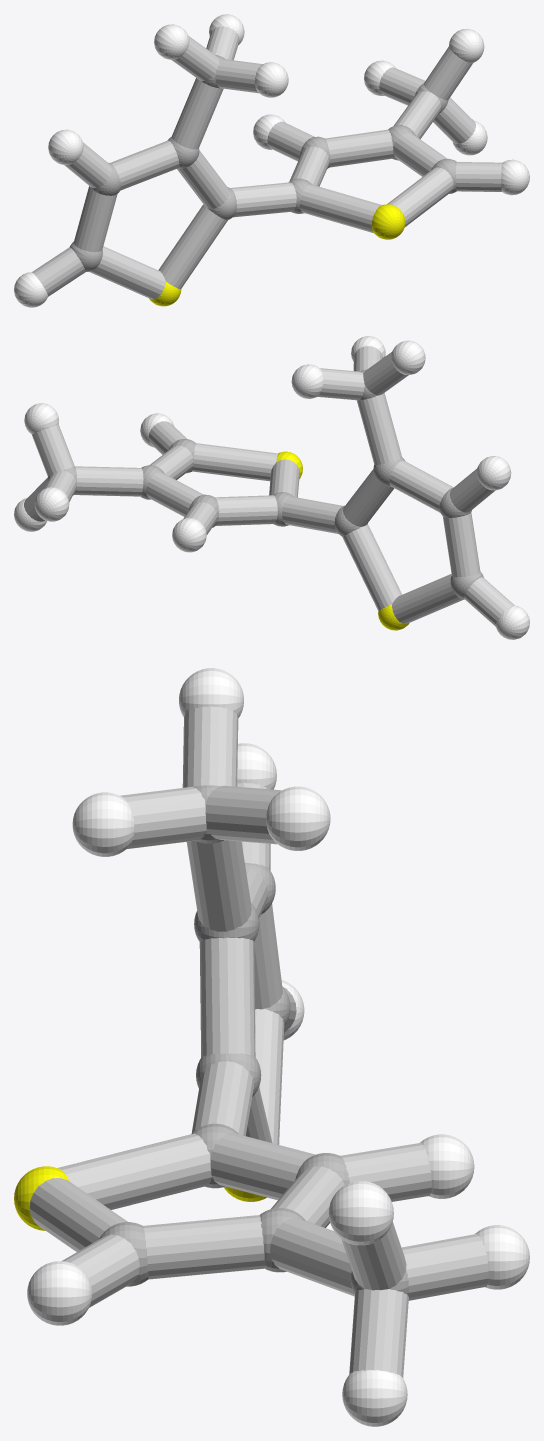
Rendered from color.glb.
3 renders of one model, top to bottom at view 1: azimuth 30°, elevation 25°; view 2: azimuth 150°, elevation 25°; view 3: azimuth 270°, elevation 25°, orthographic. The views are drawn at different scales.
Parts seen in each view (by area): view 1: grp7965, grp3621, grp1, grp7241; view 2: grp7965, grp3621, grp1, grp7241; view 3: grp7965, grp3621, grp1, grp7241.
Boxes of the visible parts, x1,y1,x2,y2 form: grp7965: (32, 26, 502, 299); grp3621: (14, 14, 529, 307); grp1: (70, 55, 456, 271); grp7241: (149, 204, 405, 306); grp7965: (24, 346, 514, 626); grp3621: (14, 336, 529, 639); grp1: (47, 369, 483, 599); grp7241: (276, 451, 409, 630); grp7965: (29, 706, 488, 1377); grp3621: (27, 668, 529, 1426); grp1: (99, 785, 408, 1295); grp7241: (14, 1166, 266, 1230).
Size of the model in its own units: 9.66 by 5.33 by 4.74.
